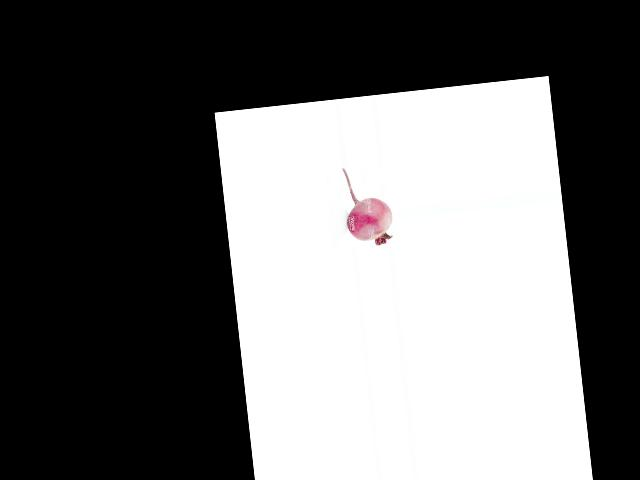beet: (341, 164, 394, 248)
